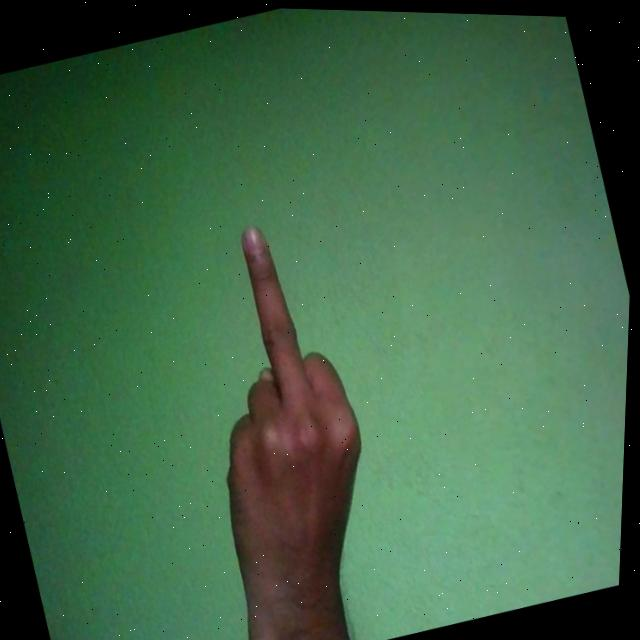Middle Finger: (154, 202, 419, 640)
